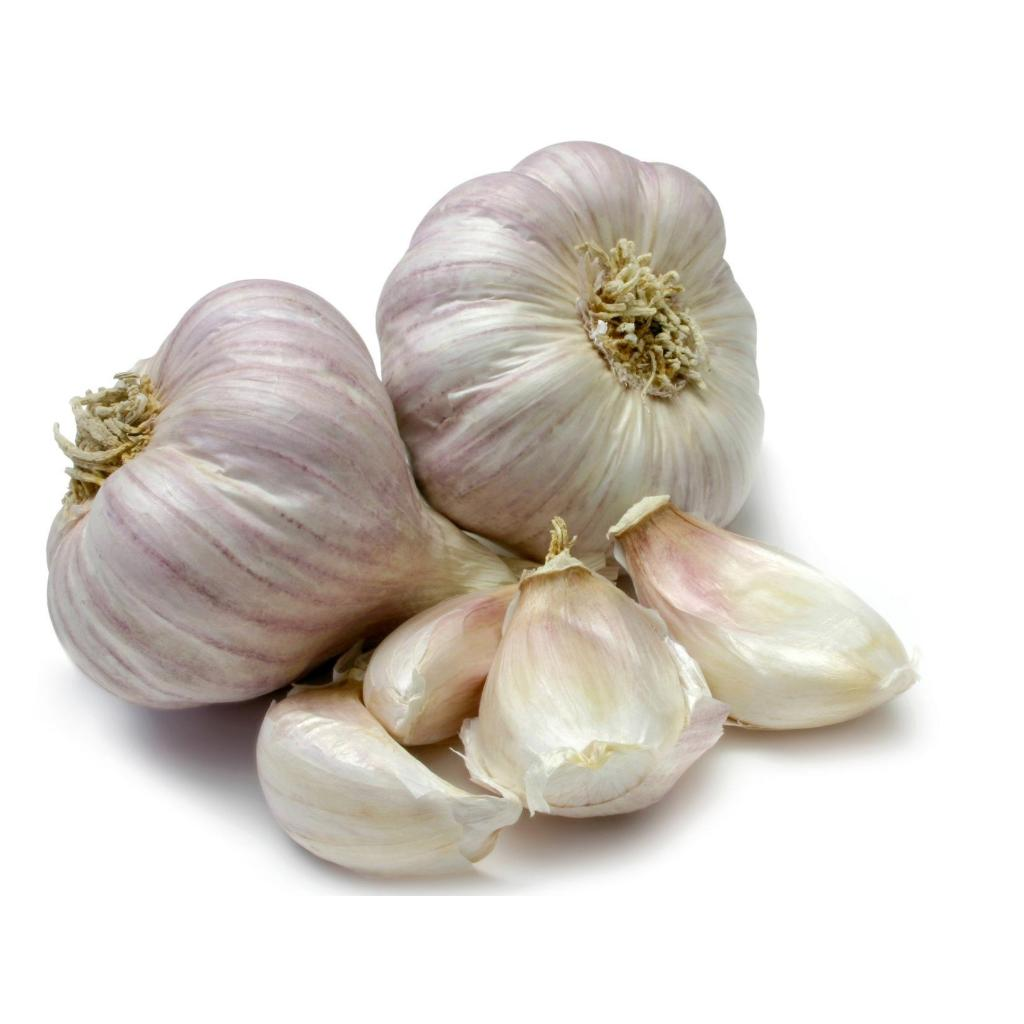garlic: (47, 279, 511, 707), (377, 142, 762, 557), (460, 516, 727, 816), (608, 495, 916, 728), (256, 680, 521, 874), (362, 584, 516, 744)
